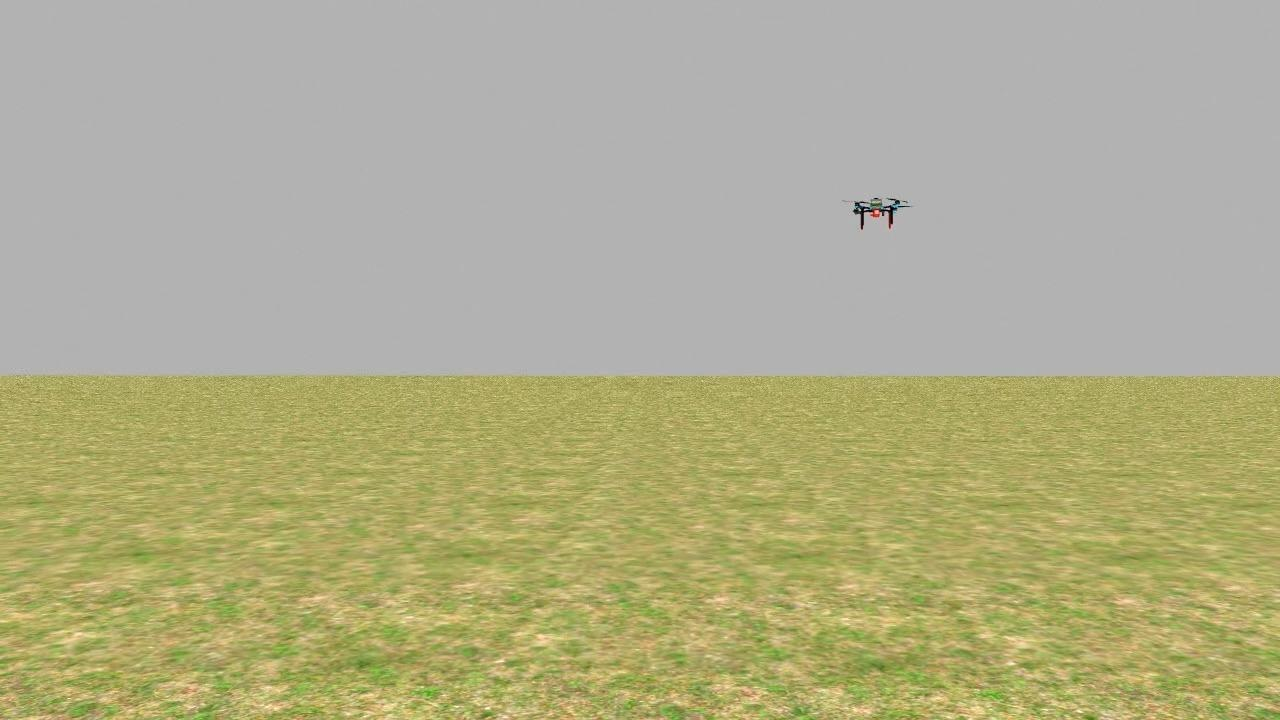UAV: (824, 176, 928, 246)
